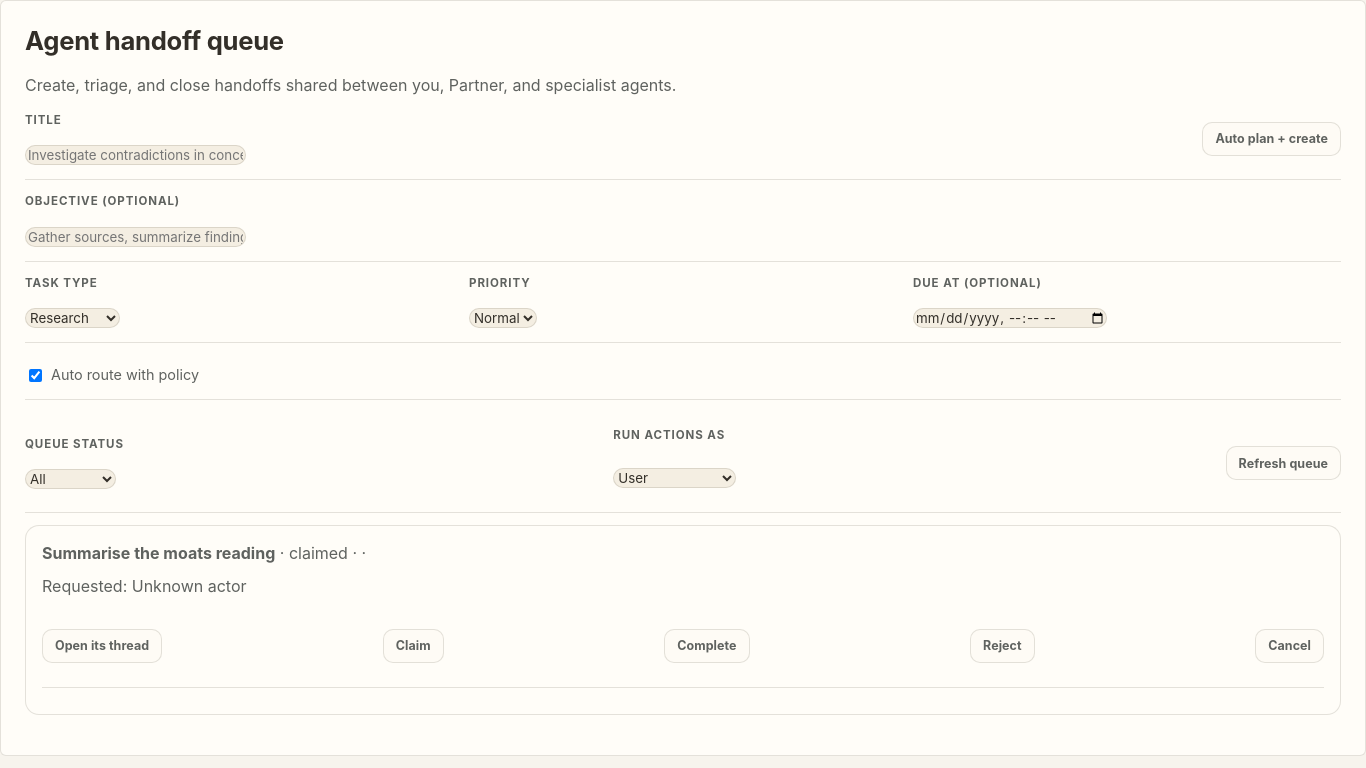
Scenario: HandoffQueueCard › says when an action waits on approval
Click the button "Claim" at (413, 646), box [383,629,444,663]
(page scrolled)
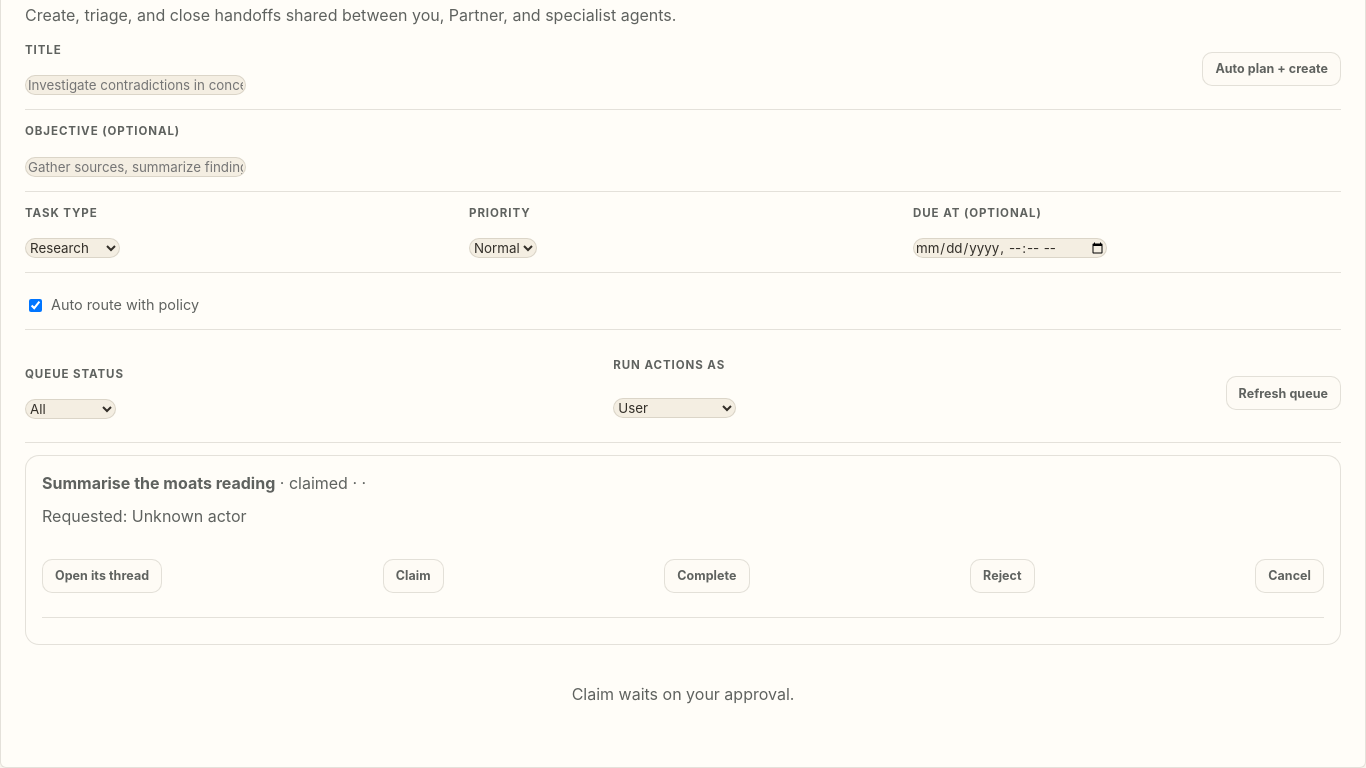
Check: the message reads "Claim waits on your approval.", box [572,684,794,704]
